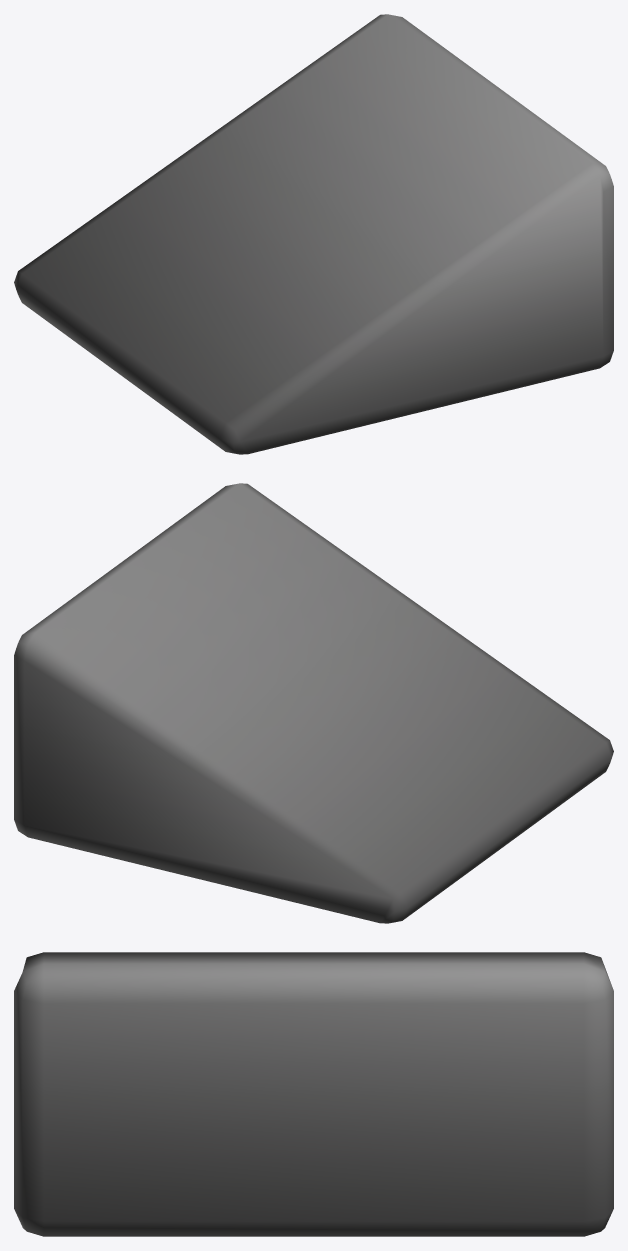
File: 3D_Tile_Dungeon_Slope_01B.fbx
3 views of the same model, one above another, from view 1: azimuth 30°, elevation 25°; view 2: azimuth 150°, elevation 25°; view 3: azimuth 270°, elevation 25° (orthographic). The views are drawn at different scales.
Parts seen in each view (by area): view 1: 3D_Tile_Dungeon_Slope_01B; view 2: 3D_Tile_Dungeon_Slope_01B; view 3: 3D_Tile_Dungeon_Slope_01B.
Boxes of the visible parts, left/top/right/bottom form: 3D_Tile_Dungeon_Slope_01B: left=14, top=14, right=613, bottom=454; 3D_Tile_Dungeon_Slope_01B: left=14, top=483, right=613, bottom=923; 3D_Tile_Dungeon_Slope_01B: left=14, top=952, right=613, bottom=1236.
Bounding box in the file's own units: 200 × 100 × 200.
